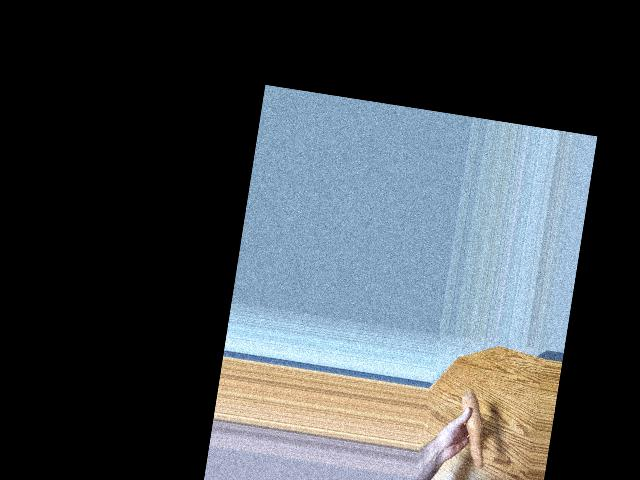sweet_potato: (455, 391, 488, 472)
